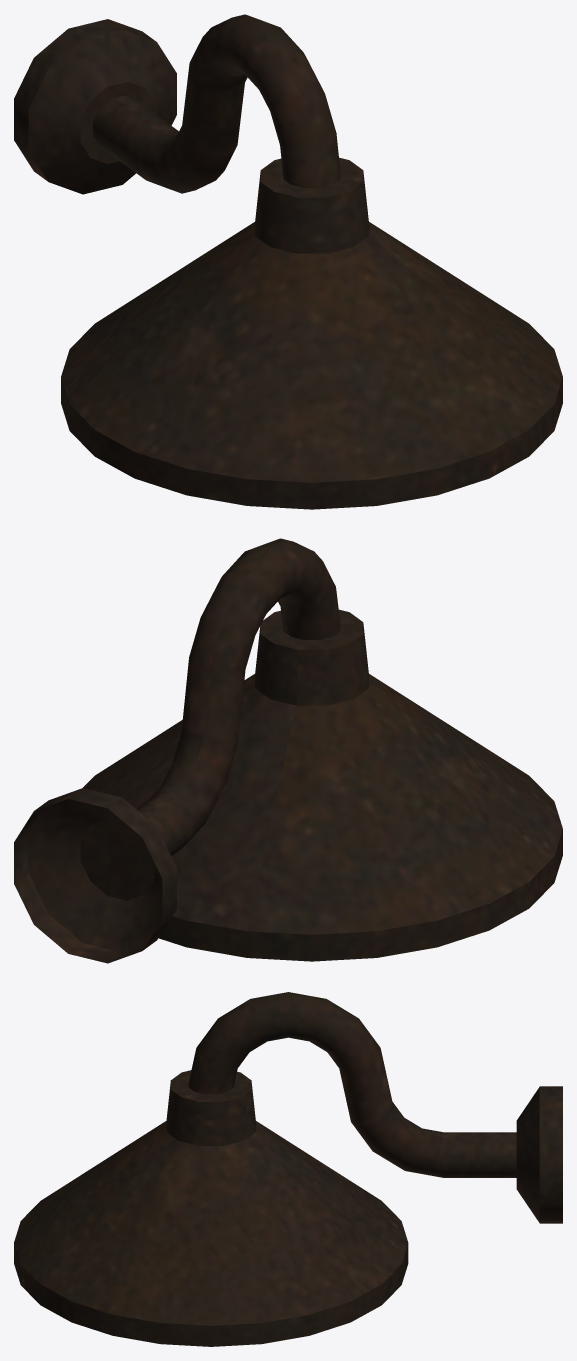
Rendered from lamp_mx_3_off.obj.
3 renders of one model, top to bottom at view 1: azimuth 30°, elevation 25°; view 2: azimuth 150°, elevation 25°; view 3: azimuth 270°, elevation 25°, orthographic. The views are drawn at different scales.
Visible parts, largest first — view 1: lamp_mx_3_off; view 2: lamp_mx_3_off; view 3: lamp_mx_3_off.
Boxes of the visible parts, x1,y1,x2,y2 form: lamp_mx_3_off: (14, 14, 562, 509); lamp_mx_3_off: (14, 538, 562, 963); lamp_mx_3_off: (14, 992, 562, 1346).
Size of the model in its own units: 0.51 by 0.418 by 0.71.
